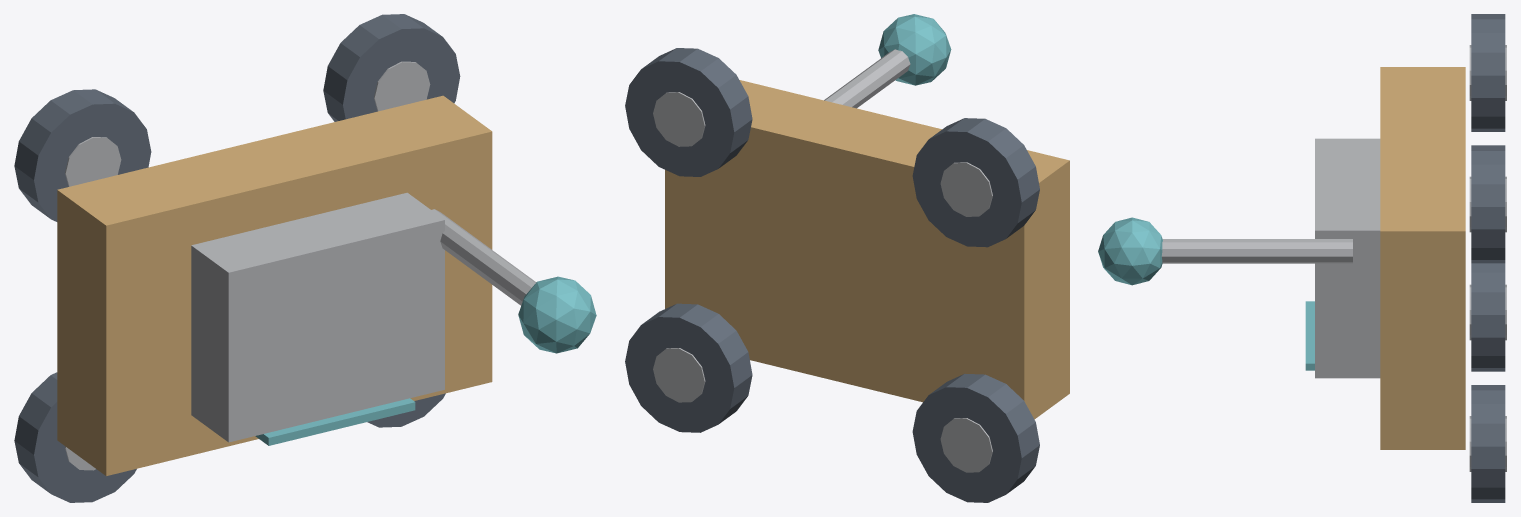
Rendered from lunar_rover.glb.
3 views of the same model, side by side, from view 1: azimuth 30°, elevation 25°; view 2: azimuth 150°, elevation 25°; view 3: azimuth 270°, elevation 25° (orthographic). The views are drawn at different scales.
Visible parts, largest first — view 1: lunar_rover_0, lunar_rover_1, lunar_rover_5, lunar_rover_9, lunar_rover_3, lunar_rover_12, lunar_rover_11, lunar_rover_2, lunar_rover_10, lunar_rover_6, lunar_rover_7; view 2: lunar_rover_0, lunar_rover_3, lunar_rover_5, lunar_rover_7, lunar_rover_9, lunar_rover_12, lunar_rover_4, lunar_rover_8, lunar_rover_10, lunar_rover_6, lunar_rover_11; view 3: lunar_rover_0, lunar_rover_1, lunar_rover_11, lunar_rover_9, lunar_rover_5, lunar_rover_7, lunar_rover_3, lunar_rover_12, lunar_rover_2.
Boxes of the visible parts, x1,y1,x2,y2 form: lunar_rover_0: (57,95,492,476); lunar_rover_1: (191,192,444,442); lunar_rover_5: (14,89,151,221); lunar_rover_9: (323,14,460,121); lunar_rover_3: (14,372,136,502); lunar_rover_12: (518,276,596,353); lunar_rover_11: (431,209,536,305); lunar_rover_2: (255,398,415,445); lunar_rover_10: (374,61,430,111); lunar_rover_6: (65,137,121,186); lunar_rover_7: (367,393,445,427); lunar_rover_0: (665,80,1069,419); lunar_rover_3: (912,373,1039,502); lunar_rover_5: (912,118,1039,247); lunar_rover_7: (625,303,752,432); lunar_rover_9: (625,48,752,176); lunar_rover_12: (878,14,951,85); lunar_rover_4: (940,418,992,472); lunar_rover_8: (653,348,705,402); lunar_rover_10: (653,92,705,146); lunar_rover_6: (940,162,992,216); lunar_rover_11: (824,49,910,108); lunar_rover_0: (1380,67,1465,449); lunar_rover_1: (1315,138,1380,378); lunar_rover_11: (1161,239,1352,263); lunar_rover_9: (1471,145,1505,263); lunar_rover_5: (1471,14,1505,131); lunar_rover_7: (1471,385,1505,502); lunar_rover_3: (1471,263,1505,371); lunar_rover_12: (1098,217,1162,285); lunar_rover_2: (1305,301,1314,370).
Size of the model in its own units: 2.76 by 2.46 by 2.63.
